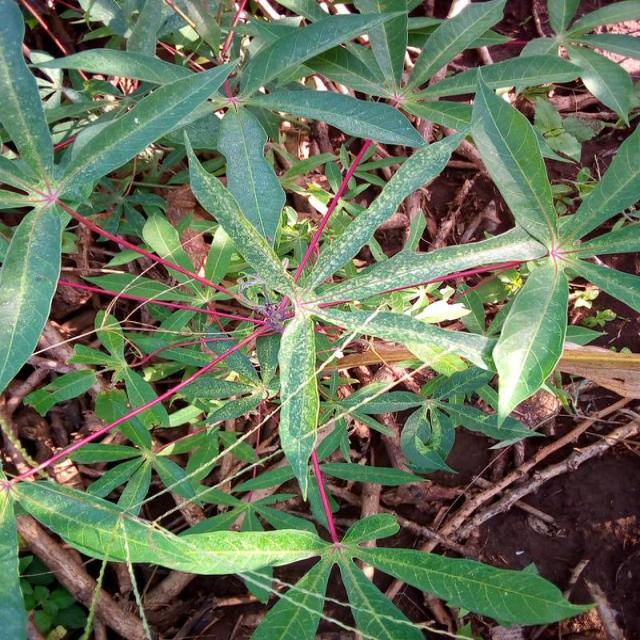Mosaico: (409, 100, 638, 391), (219, 158, 485, 403)
